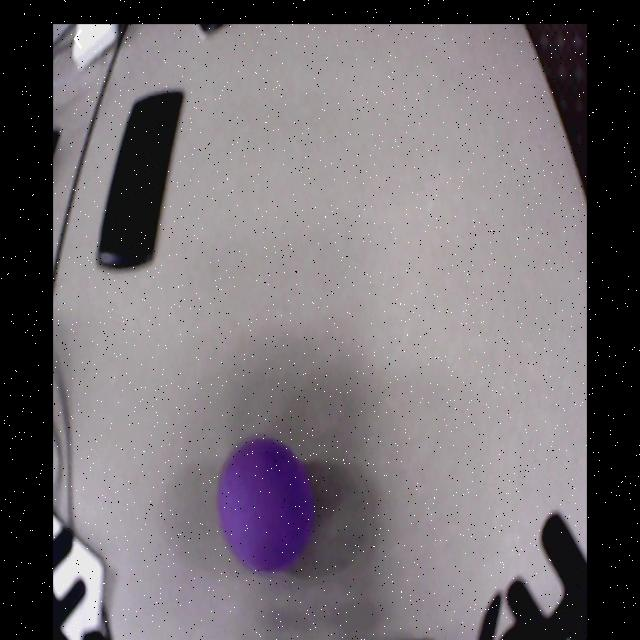ball: (218, 439, 316, 574)
